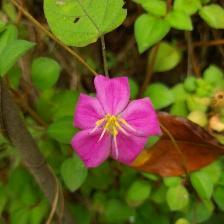malabar melastome: (71, 72, 166, 172)
